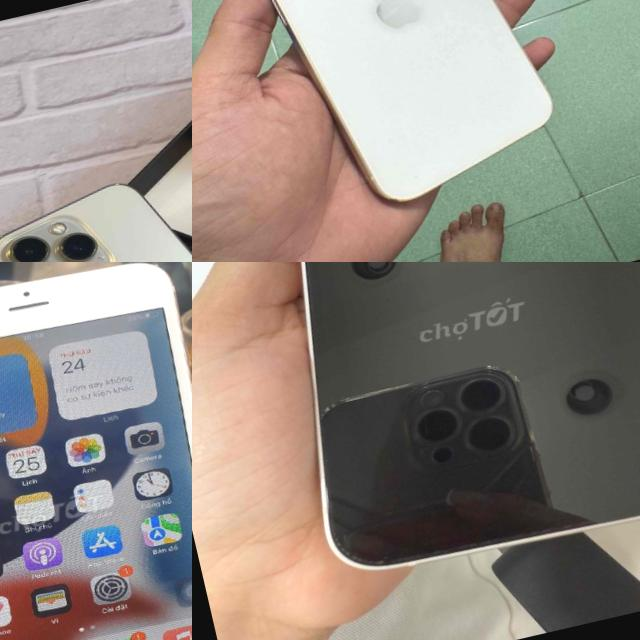gen_12_13: (215, 0, 573, 237), (0, 149, 192, 262)
gen_14: (216, 262, 640, 592)
gen_6: (0, 262, 192, 640)
